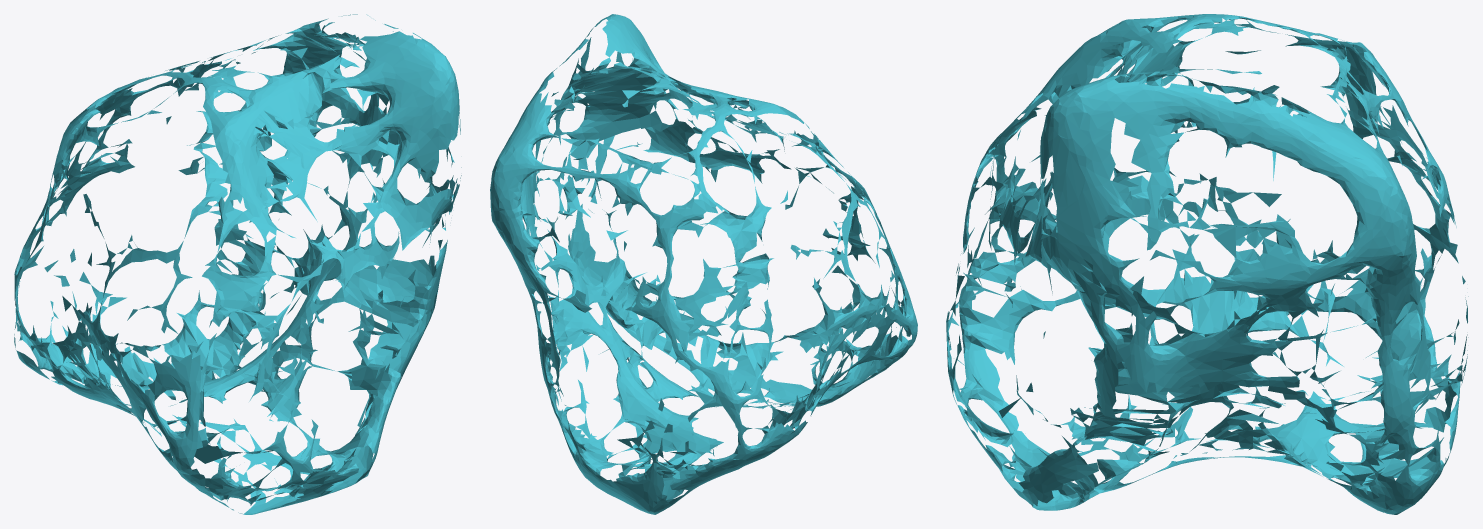
The picture shows the model from 3 angles, left to right: view 1: azimuth 30°, elevation 25°; view 2: azimuth 150°, elevation 25°; view 3: azimuth 270°, elevation 25°; orthographic projection. The views are drawn at different scales.
Visible parts, largest first — view 1: Renderer Node; view 2: Renderer Node; view 3: Renderer Node.
Part boxes in pixels (<box>): Renderer Node: <box>14,14,461,514</box>; Renderer Node: <box>490,14,917,514</box>; Renderer Node: <box>946,14,1468,514</box>.
Bounding box in the file's own units: 0.5724 × 0.6522 × 0.6046.
Materials: 1 (1 with a texture image).
